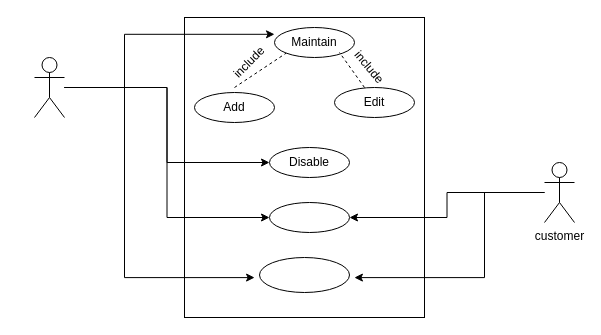
This 601x335 diagram has some shape labels left out. The box of each missing label's shape, as (x1, y1, x2, y2) in pixels:
Authentication: (258, 256, 350, 292)
purchase: (268, 202, 350, 232)
salesperson: (34, 56, 64, 118)
